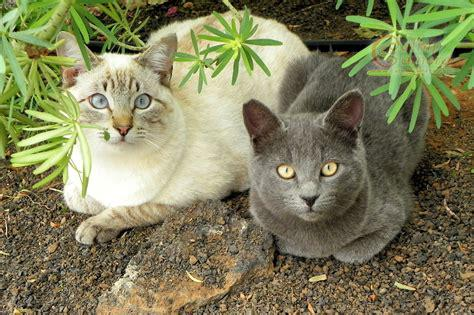cat: (55, 13, 308, 244), (244, 51, 428, 264)
